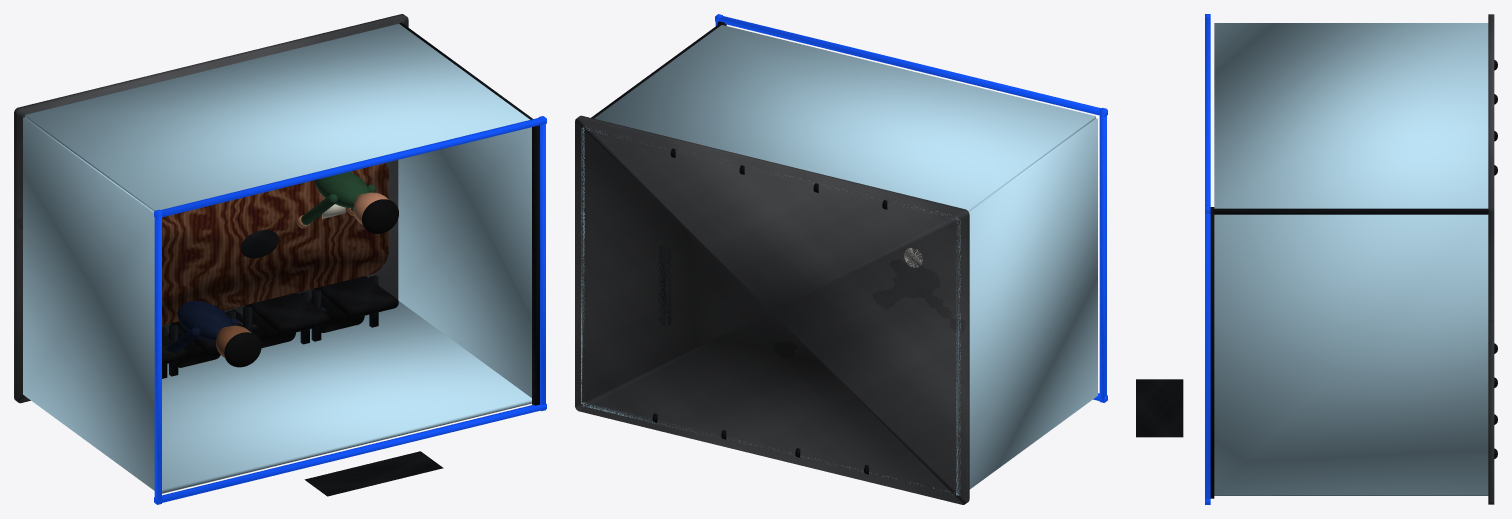
The model's file is HERO_GLASS_MEETING_ROOM_V4_001.glb.
3 renders of one model, left to right at view 1: azimuth 30°, elevation 25°; view 2: azimuth 150°, elevation 25°; view 3: azimuth 270°, elevation 25°, orthographic.
Parts seen in each view (by area): view 1: glass_back, glass_front, glass_left, glass_right, meeting_top, room_floor, neon_back, neon_front, floating_label_back, neon_l, frame, meeting_chair_2_back (+10 smaller); view 2: room_floor, glass_back, glass_left, neon_back, neon_l, glass_right, meeting_leg; view 3: glass_right, glass_back, room_floor, floating_label_back, room_post, neon_r, frame, neon_back.
Part boxes in pixels (box(x1,y1,x2,y2)): glass_back: box(25, 24, 529, 211); glass_front: box(31, 301, 531, 493); glass_left: box(23, 117, 154, 490); glass_right: box(398, 127, 531, 397); meeting_top: box(162, 163, 388, 325); room_floor: box(14, 14, 408, 403); neon_back: box(154, 118, 546, 218); neon_front: box(154, 403, 546, 504); floating_label_back: box(304, 451, 443, 496); neon_l: box(154, 209, 161, 504); frame: box(532, 125, 539, 405); meeting_chair_2_back: box(245, 292, 329, 335); room_floor: box(575, 115, 969, 504); glass_back: box(583, 25, 1095, 219); glass_left: box(956, 118, 1097, 495); neon_back: box(715, 16, 1107, 116); neon_l: box(1099, 107, 1106, 402); glass_right: box(581, 127, 584, 403); meeting_leg: box(658, 245, 671, 325); glass_right: box(1214, 214, 1488, 494); glass_back: box(1214, 23, 1488, 208); room_floor: box(1488, 14, 1494, 504); floating_label_back: box(1136, 379, 1183, 437); room_post: box(1214, 208, 1488, 214); neon_r: box(1205, 205, 1210, 504); frame: box(1210, 207, 1214, 498); neon_back: box(1205, 17, 1210, 213).
Size of the model in its own units: 3.7 by 2.65 by 2.91.
Materials: 17 (17 with a texture image).
